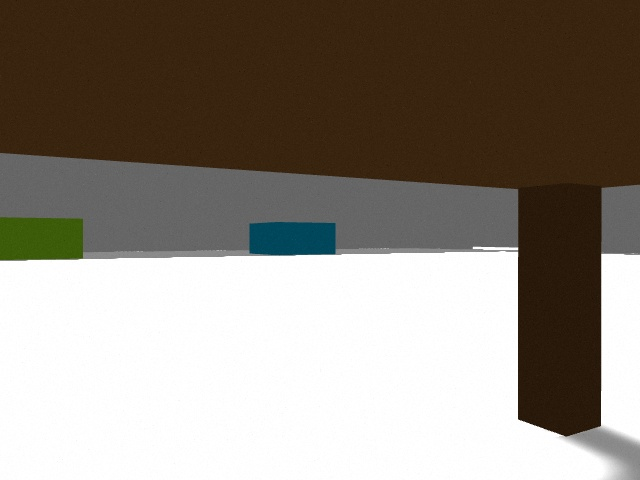blue_drop_zone: (249, 222, 336, 255)
green_drop_zone: (0, 217, 83, 260)
